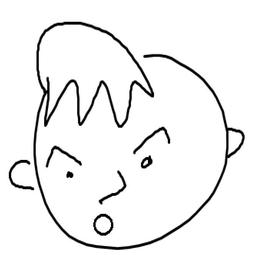ear: (7, 155, 41, 199), (218, 126, 250, 166)
eyebrow: (42, 143, 86, 169)
frowning_eyebrow: (126, 125, 175, 152)
open_mouth: (90, 212, 124, 237)
pointy_nose: (96, 168, 134, 208)
small_eye: (62, 167, 78, 186), (140, 154, 154, 171)
